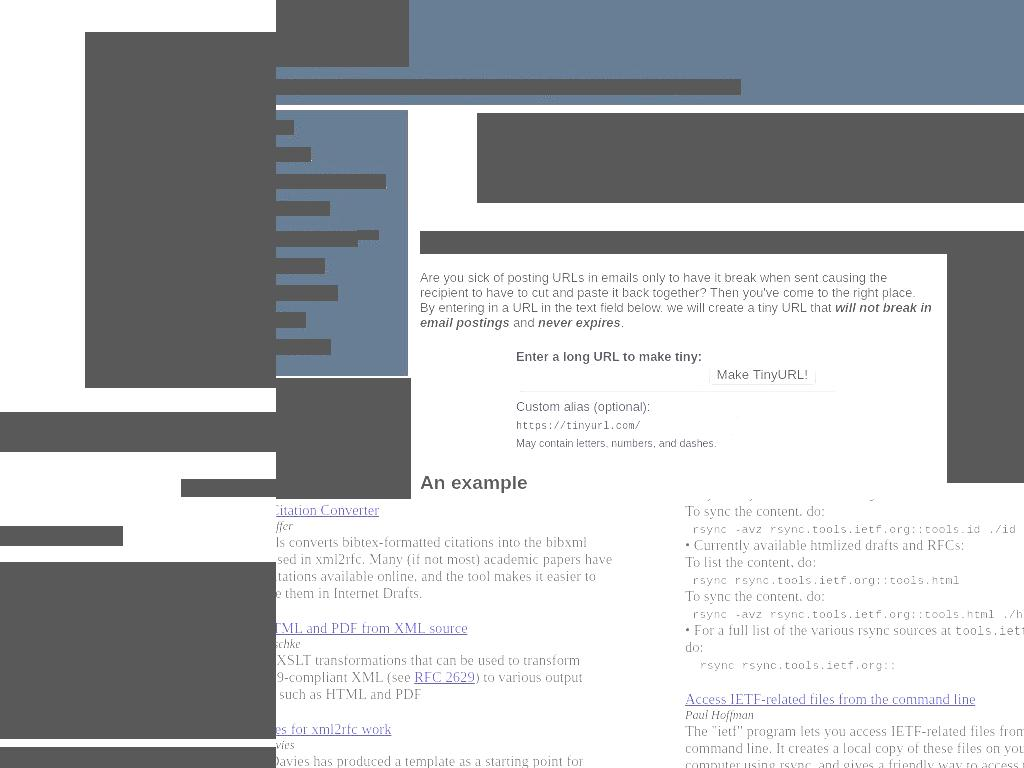field: (516, 363, 705, 385), (708, 363, 816, 385), (644, 414, 739, 436)
heading: (0, 562, 276, 739), (420, 231, 1024, 254), (420, 472, 1024, 495), (0, 412, 276, 452), (276, 0, 409, 67)
iframe: (477, 113, 1024, 203), (947, 233, 1024, 483), (276, 378, 411, 499)
image: (85, 32, 276, 388)
link: (684, 690, 976, 707), (276, 619, 468, 636), (276, 720, 392, 737), (276, 501, 379, 518), (276, 174, 386, 189), (276, 231, 358, 247), (414, 668, 476, 685), (276, 285, 338, 301), (276, 339, 331, 355), (276, 201, 330, 216), (276, 258, 325, 274), (276, 147, 311, 162), (276, 312, 306, 328), (276, 120, 294, 135)
text: (276, 533, 612, 601), (420, 269, 916, 315), (420, 299, 932, 330), (684, 722, 1024, 768), (684, 621, 1024, 655), (276, 668, 583, 702), (276, 651, 580, 685), (276, 79, 741, 95), (276, 752, 601, 768), (692, 607, 1024, 622), (692, 522, 1017, 537), (684, 536, 964, 553), (684, 621, 955, 638), (692, 573, 961, 588), (516, 348, 702, 364), (699, 658, 897, 673), (516, 437, 717, 450), (0, 526, 123, 546), (684, 502, 825, 519), (684, 587, 825, 604), (684, 553, 816, 570), (516, 399, 650, 415), (516, 420, 641, 433), (538, 314, 622, 330), (684, 707, 754, 722), (955, 624, 1024, 639), (692, 499, 947, 503), (181, 479, 234, 497), (234, 479, 276, 497), (509, 314, 538, 330), (276, 636, 301, 651), (276, 737, 295, 752), (276, 518, 293, 533), (357, 230, 379, 240), (620, 314, 624, 330)
